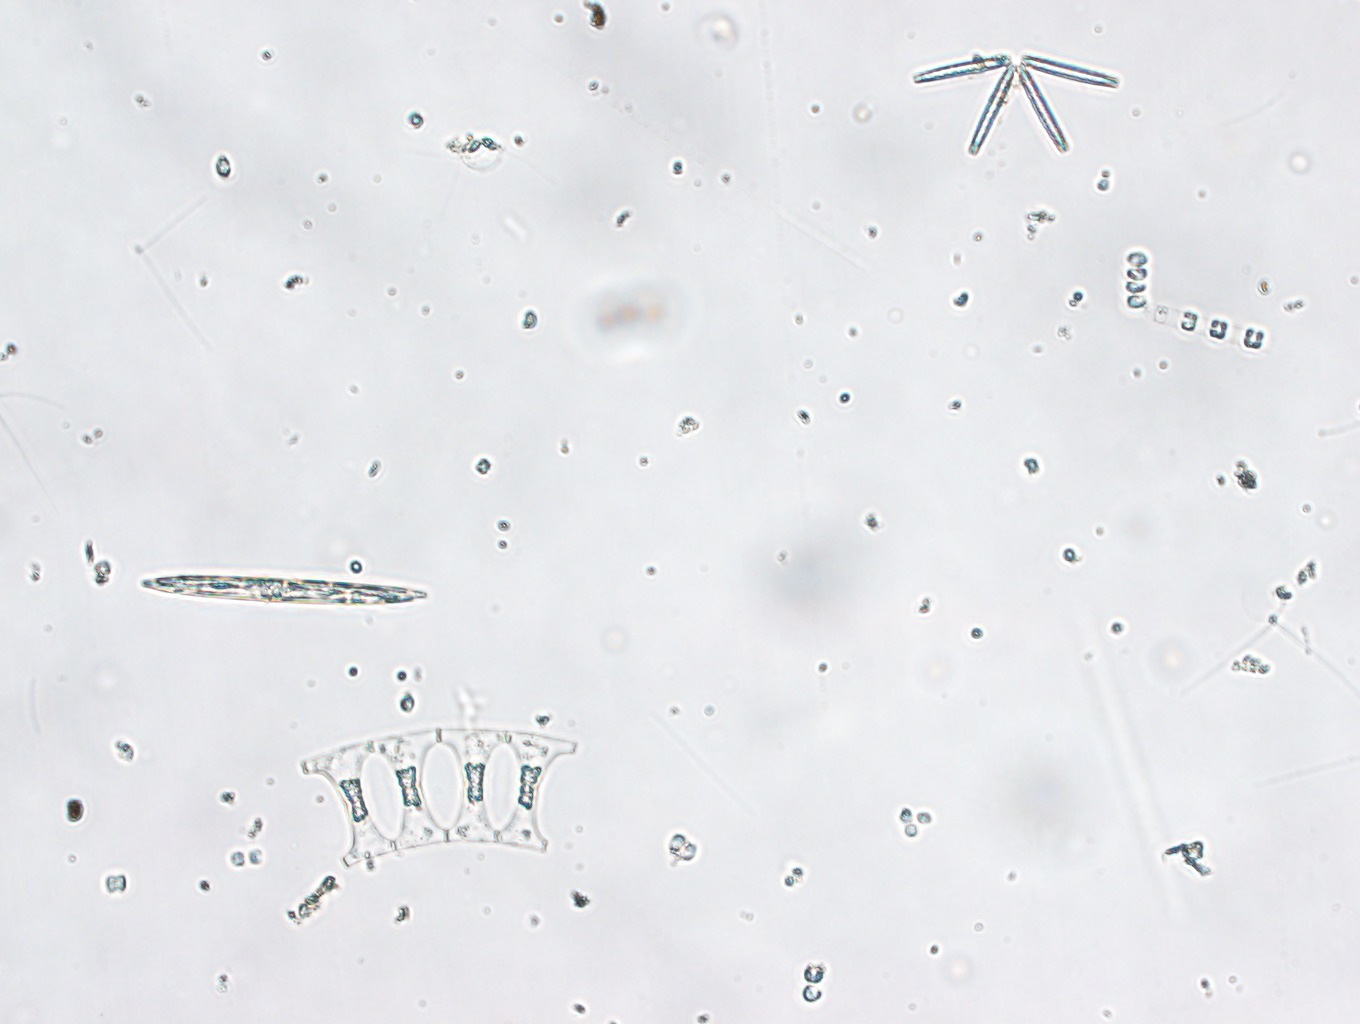eucampia: (297, 725, 577, 869)
navicula: (142, 572, 429, 603)
skeletonema: (1123, 248, 1269, 353)
thalassionema nitzschioides: (912, 55, 1119, 156)
